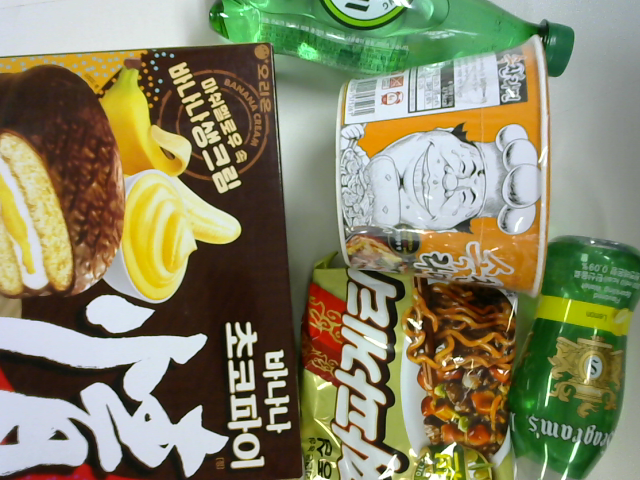Choco_Pie_Banana: (1, 42, 311, 474)
Hejangchan: (339, 42, 549, 298)
Olive_Chapaghetti: (305, 252, 521, 480)
Seagram_Lemon_Carbonated_Water: (513, 232, 639, 480)
Treviraim_500ml: (203, 1, 577, 94)
